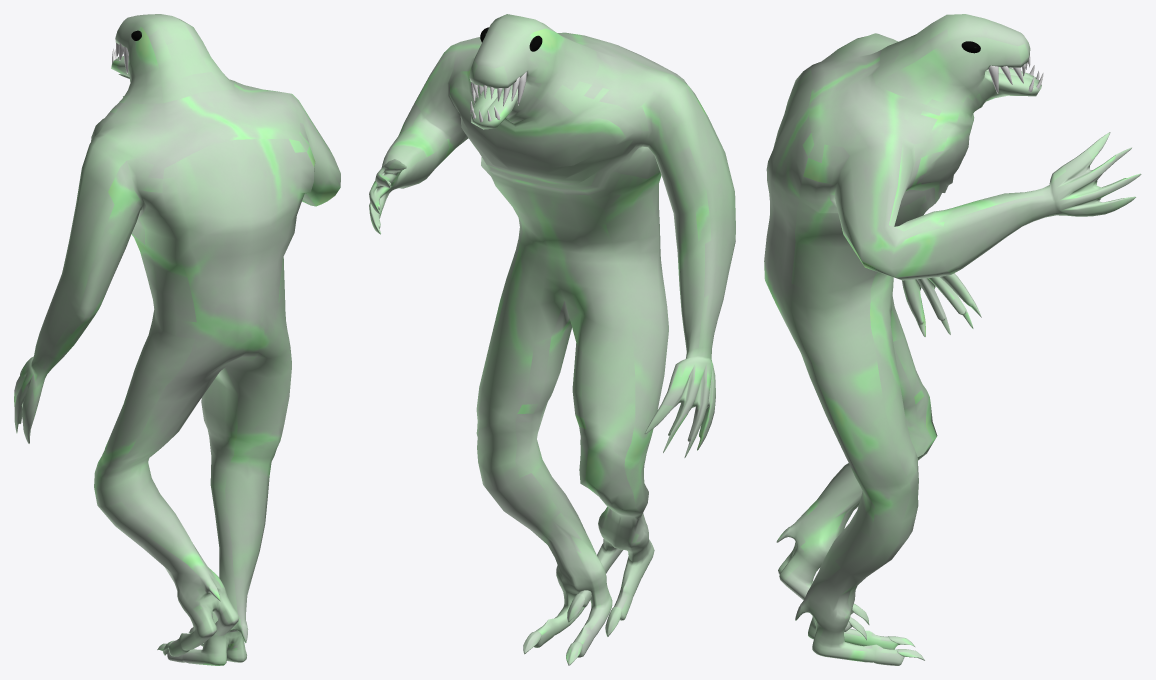
The model's file is Berserkercorrer.0078.obj.
The picture shows the model from 3 angles, left to right: view 1: azimuth 30°, elevation 25°; view 2: azimuth 150°, elevation 25°; view 3: azimuth 270°, elevation 25°; orthographic projection. The views are drawn at different scales.
Visible parts, largest first — view 1: polySurface27; view 2: polySurface27; view 3: polySurface27.
Boxes of the visible parts, x1,y1,x2,y2 form: polySurface27: (14, 14, 340, 665); polySurface27: (369, 14, 735, 665); polySurface27: (764, 14, 1141, 665).
Bounding box in the file's own units: 12.05 × 23.61 × 12.54.
1 material, 1 textured.
